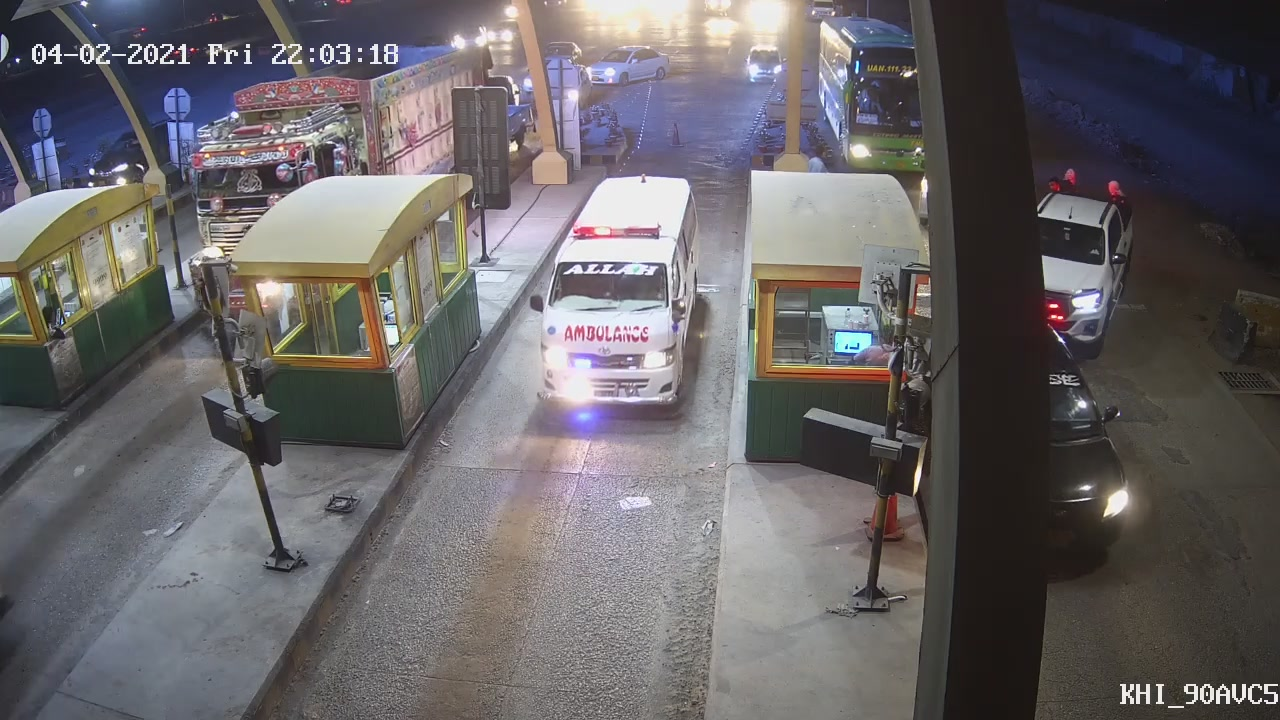F2: (518, 172, 706, 414)
